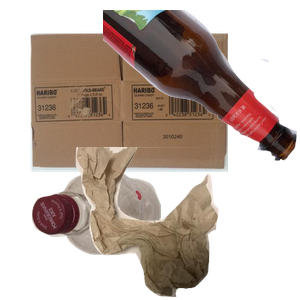cardboard: (28, 31, 249, 195)
glass: (103, 10, 300, 163)
plastic: (29, 166, 183, 300)
trash: (73, 147, 300, 300)
